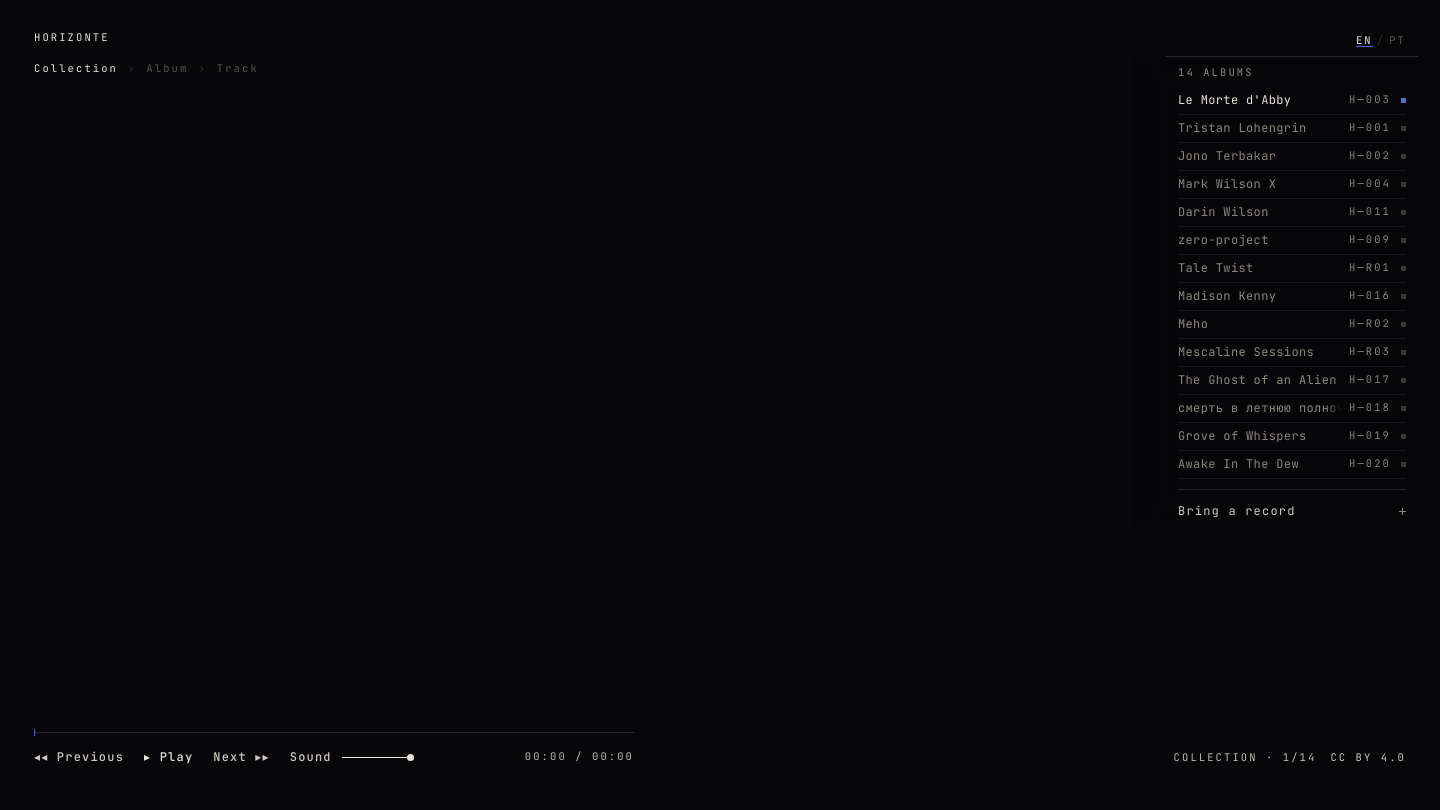
Test case: switching by hand › the switch says which language is on, by name, in its own language
Click the button with aria-label "Português (Brasil)" at (1398,41), box [1389,30,1406,52]
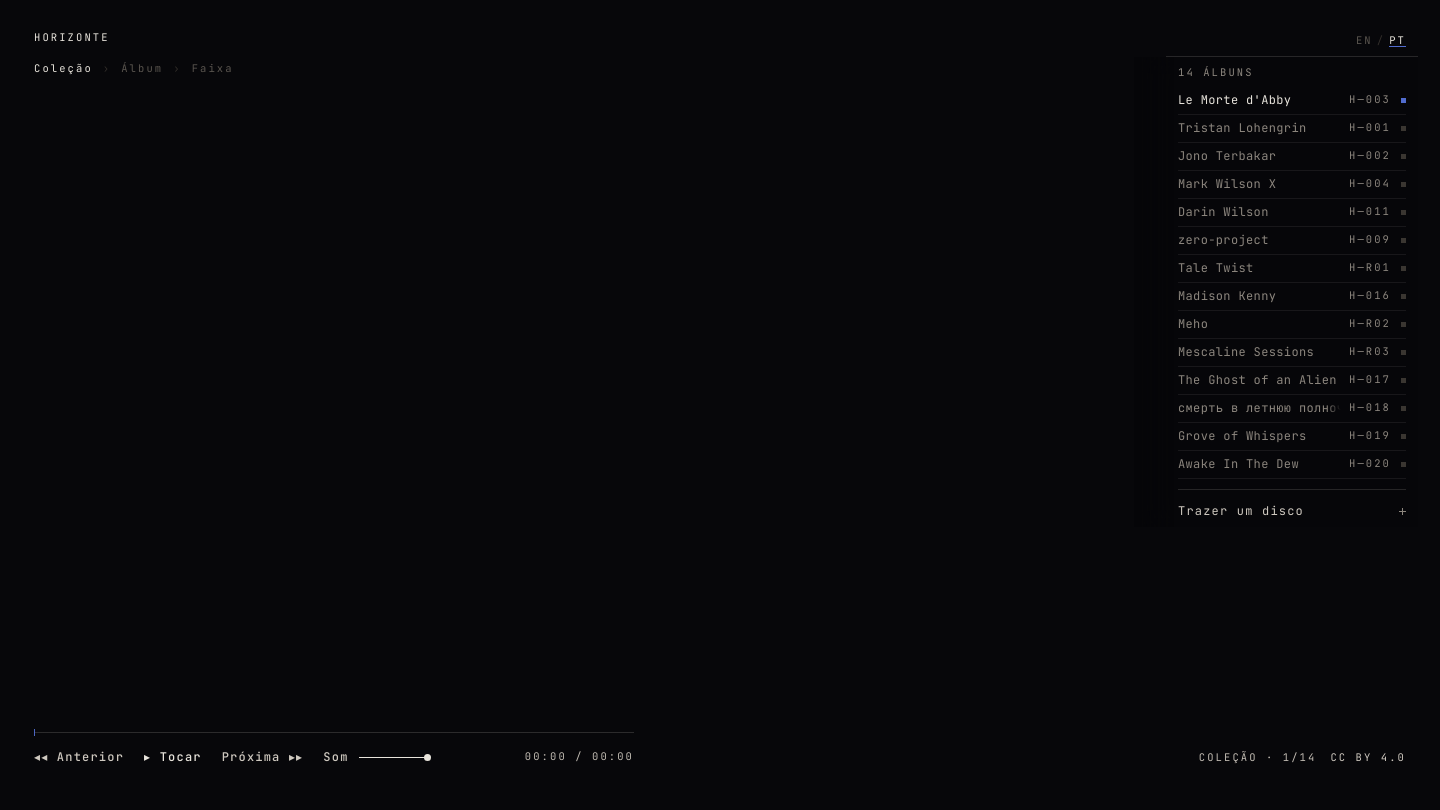
Now the element named "Idioma" is shown, box [1356,30,1406,52]
